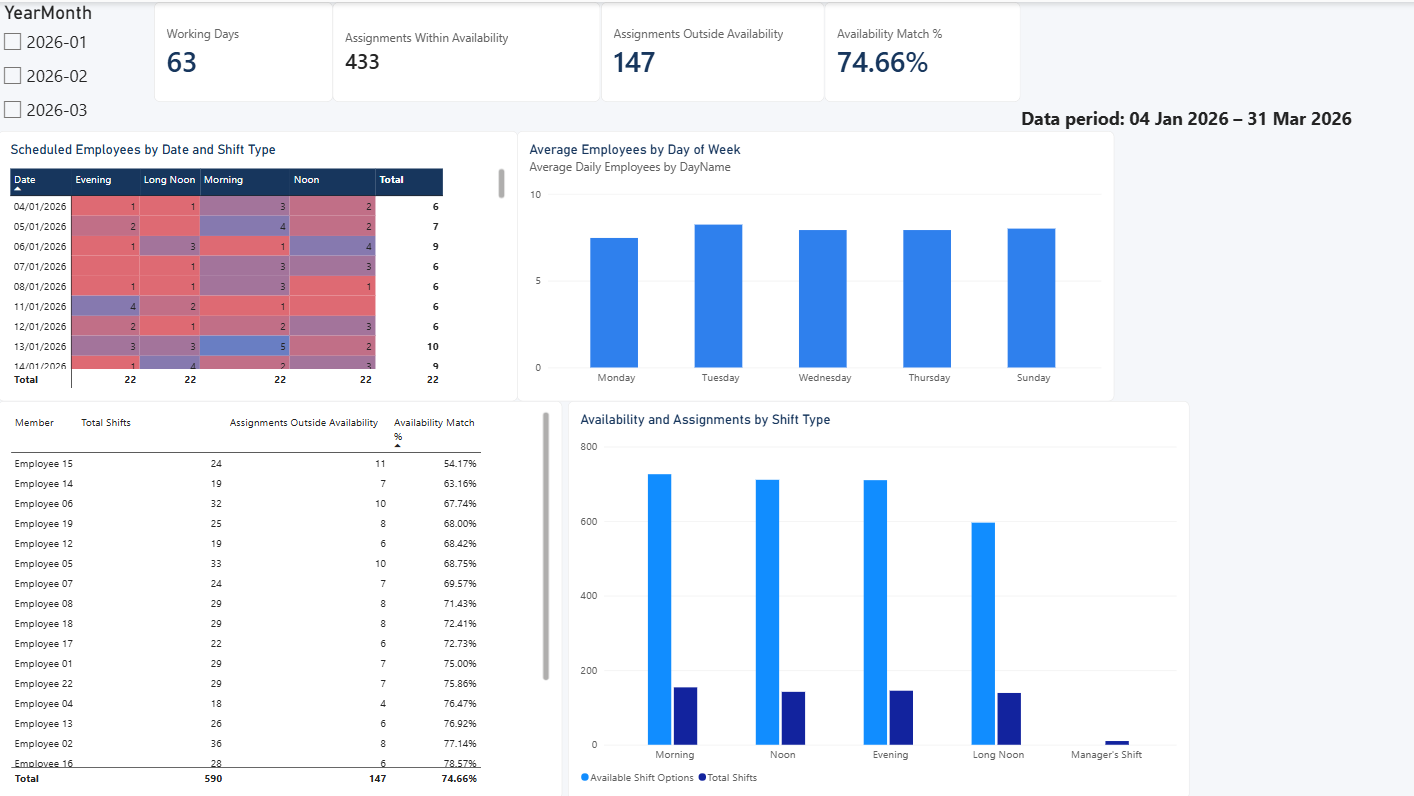

This screenshot's page, from the dashboard's own definition file:
{"tool":"powerbi","page":{"name":"Scheduling & Availability","canvas":[1920,1080],"ordinal":1},"visuals":[{"type":"slicer","fields":{"Values":["DimDate.YearMonth"]},"box":[0,0,210,192.5],"z":1000},{"type":"cardVisual","fields":{"Data":["DimDate.Working Days"]},"box":[210,0,242.5,135],"z":2000},{"type":"pivotTable","title":"Scheduled Employees by Date and Shift Type","fields":{"Columns":["FactShifts.ShiftType"],"Rows":["DimDate.Date"],"Values":["FactShifts.Scheduled Employees"]},"box":[0,175,702.5,365],"z":3000},{"type":"clusteredColumnChart","title":"Average Employees by Day of Week","fields":{"Category":["DimDate.DayName"],"Y":["FactShifts.Average Daily Employees"]},"box":[702.5,175,807.5,365],"z":4000},{"type":"cardVisual","fields":{"Data":["FactShifts.Assignments Outside Availability"]},"box":[815,0,302.5,135],"z":6000},{"type":"cardVisual","fields":{"Data":["FactShifts.Availability Match %"]},"box":[1117.5,0,265,135],"z":7000},{"type":"clusteredColumnChart","title":"Availability and Assignments by Shift Type","fields":{"Category":["DimShiftType.ShiftType"],"Y":["FactAvailability.Available Shift Options","DimDate.Total Shifts"]},"box":[770,540,840,540],"z":13000},{"type":"textbox","box":[1382.5,140,452.5,70],"z":15000},{"type":"cardVisual","fields":{"Data":["FactShifts.Assignments Within Availability"]},"box":[452.5,0,362.5,135],"z":15001},{"type":"tableEx","fields":{"Values":["DimEmployee.Member","DimDate.Total Shifts","FactShifts.Assignments Outside Availability","FactShifts.Availability Match %"]},"box":[0,540,762.5,540],"z":15002}]}

Visuals, with their boxes in screenshot pixels (x1, y1, x2, y2), scaled from the page's 1920x1080 canvas onto the 1414x796 screenshot:
slicer - DimDate.YearMonth: 0 0 155 142
cardVisual - DimDate.Working Days: 155 0 333 100
"Scheduled Employees by Date and Shift Type" pivotTable: 0 129 517 398
"Average Employees by Day of Week" clusteredColumnChart: 517 129 1112 398
cardVisual - FactShifts.Assignments Outside Availability: 600 0 823 100
cardVisual - FactShifts.Availability Match %: 823 0 1018 100
"Availability and Assignments by Shift Type" clusteredColumnChart: 567 398 1186 795
textbox: 1018 103 1351 155
cardVisual - FactShifts.Assignments Within Availability: 333 0 600 100
tableEx - DimEmployee.Member x DimDate.Total Shifts: 0 398 562 795
